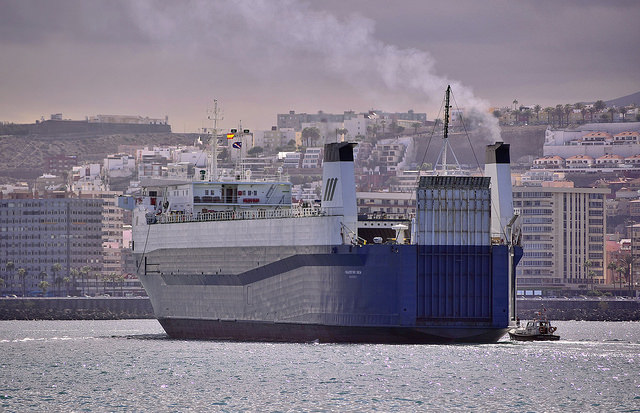PCC: (113, 145, 517, 344)
boat: (509, 314, 560, 342)
